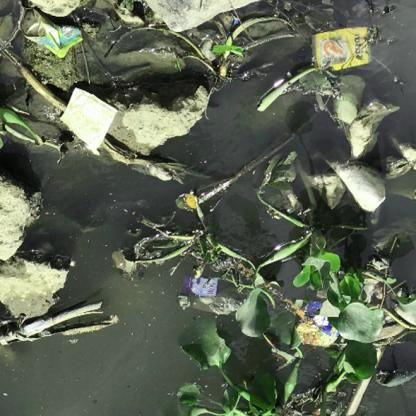Trash: (59, 83, 127, 152), (311, 18, 378, 79), (18, 15, 85, 58), (290, 298, 341, 354), (183, 270, 224, 301)
